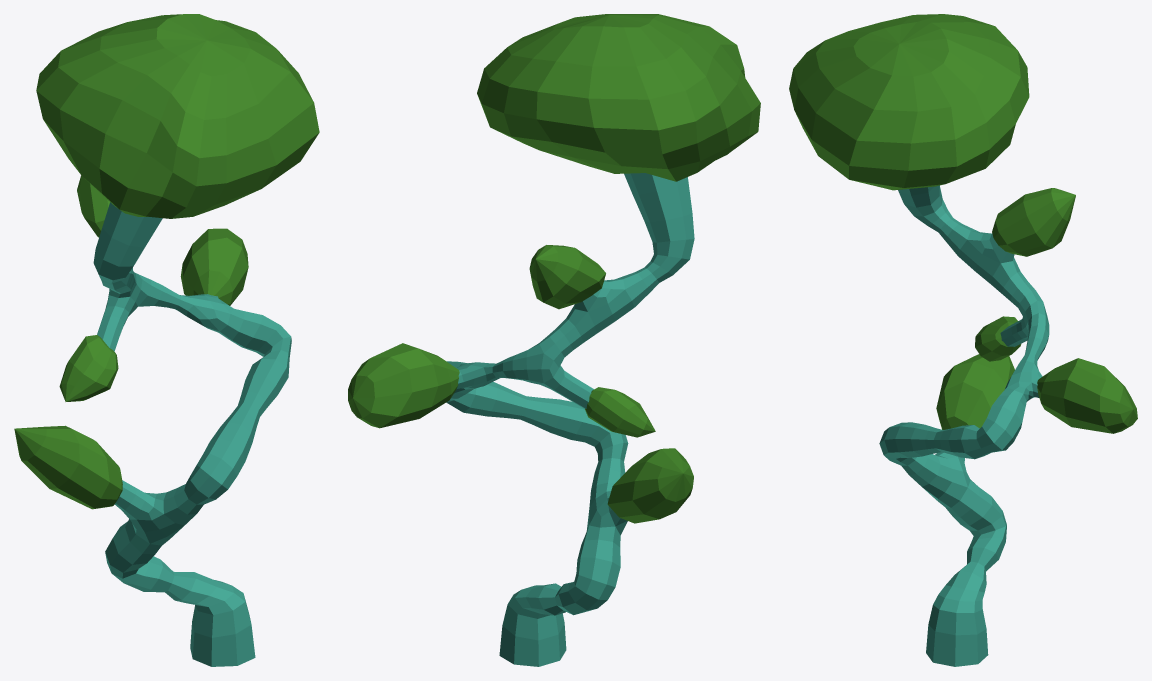
The model's file is Arbre ZigZag.fbx.
The picture shows the model from 3 angles, left to right: view 1: azimuth 30°, elevation 25°; view 2: azimuth 150°, elevation 25°; view 3: azimuth 270°, elevation 25°; orthographic projection. The views are drawn at different scales.
Parts seen in each view (by area): view 1: Sphere.001, Plane, Sphere.004, Sphere, Sphere.003, Sphere.002; view 2: Sphere.001, Plane, Sphere, Sphere.004, Sphere.002, Sphere.003; view 3: Sphere.001, Plane, Sphere, Sphere.002, Sphere.004, Sphere.003.
Boxes of the visible parts, box(x1,y1,x2,y2) form: Sphere.001: box(36, 14, 319, 218); Plane: box(93, 202, 291, 666); Sphere.004: box(14, 425, 122, 509); Sphere: box(180, 228, 248, 305); Sphere.003: box(59, 335, 118, 401); Sphere.002: box(77, 175, 109, 237); Sphere.001: box(477, 14, 760, 181); Plane: box(446, 173, 694, 666); Sphere: box(348, 343, 459, 428); Sphere.004: box(607, 448, 693, 523); Sphere.002: box(529, 245, 605, 309); Sphere.003: box(585, 387, 655, 437); Sphere.001: box(789, 14, 1029, 190); Plane: box(879, 185, 1049, 666); Sphere: box(1037, 358, 1137, 433); Sphere.002: box(992, 188, 1075, 256); Sphere.004: box(936, 354, 1014, 429); Sphere.003: box(975, 316, 1021, 361).
Bounding box in the file's own units: 1114 × 2448 × 1297.
